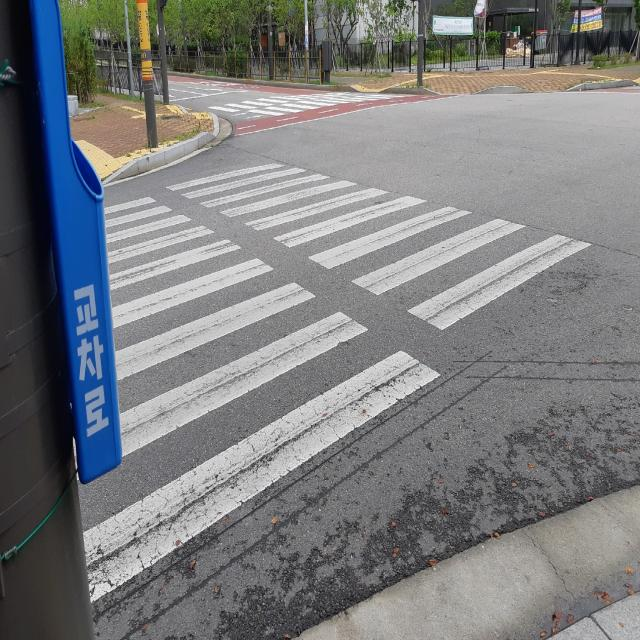횡단보도: (73, 162, 593, 603), (203, 90, 404, 135)
